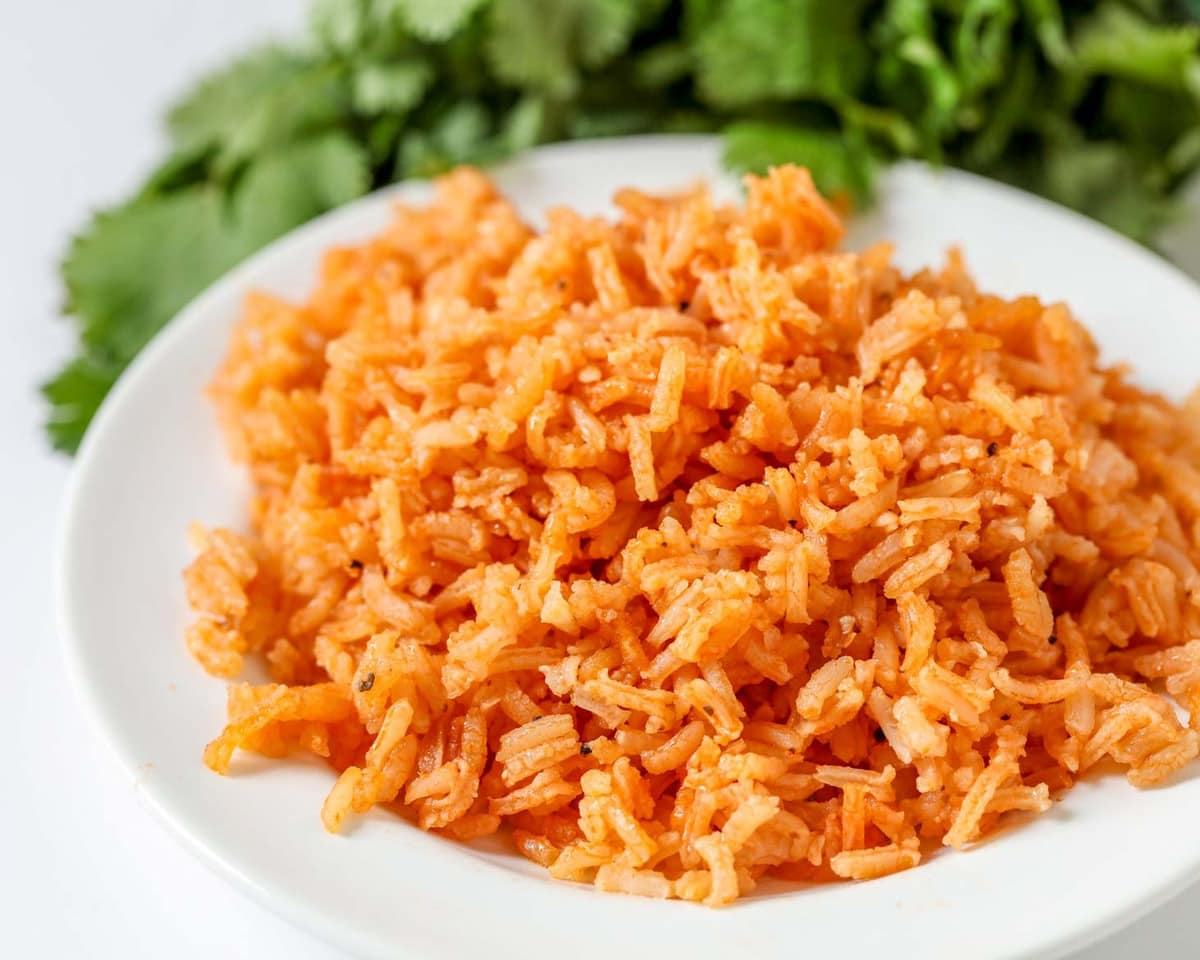rice: (226, 155, 1198, 885)
